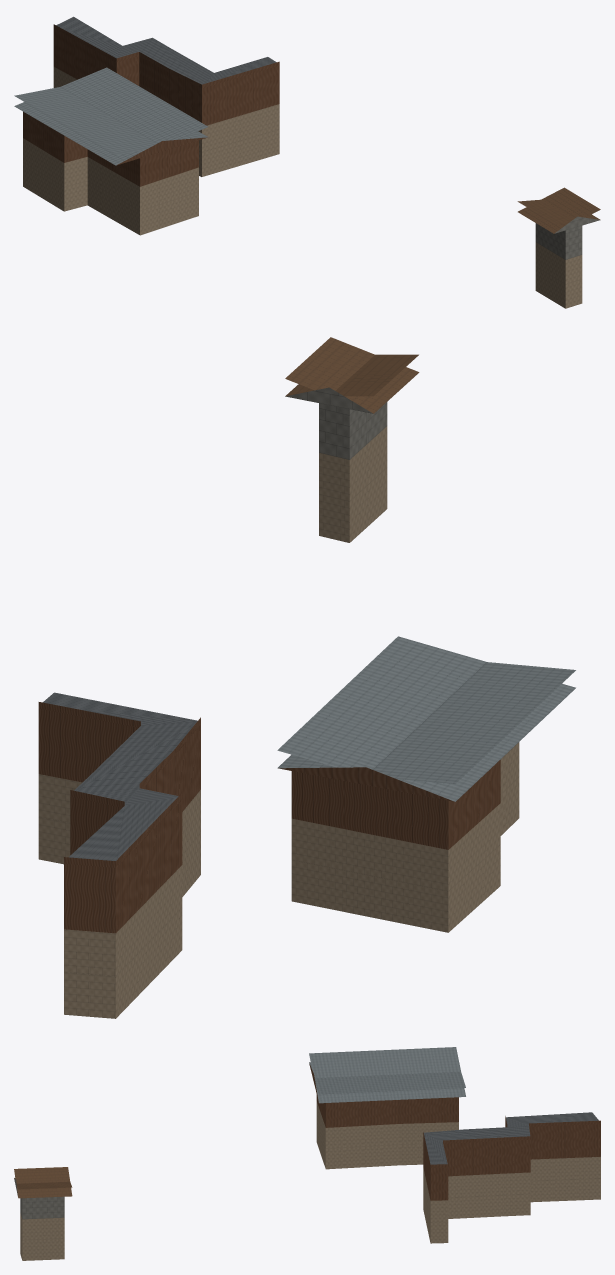
File: bld_c36_-28_439.gltf
3 renders of one model, top to bottom at view 1: azimuth 30°, elevation 25°; view 2: azimuth 150°, elevation 25°; view 3: azimuth 270°, elevation 25°, orthographic. The views are drawn at different scales.
Visible parts, largest first — view 1: bld_c36_-28_439; view 2: bld_c36_-28_439; view 3: bld_c36_-28_439.
Boxes of the visible parts, x1,y1,x2,y2 form: bld_c36_-28_439: [14, 16, 600, 308]; bld_c36_-28_439: [38, 337, 575, 1018]; bld_c36_-28_439: [14, 1047, 600, 1260].
Size of the model in its own units: 33.15 by 10.4 by 59.91.
Materials: 8 (8 with a texture image).
